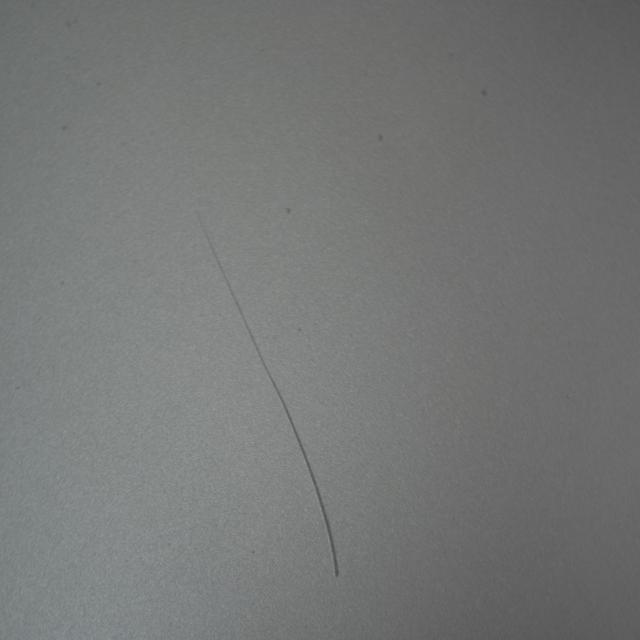dirt: (479, 78, 494, 102), (283, 202, 294, 218), (376, 126, 384, 144)
scratch: (188, 193, 343, 581)
